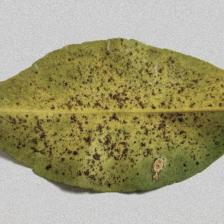canker: (35, 60, 194, 182)
